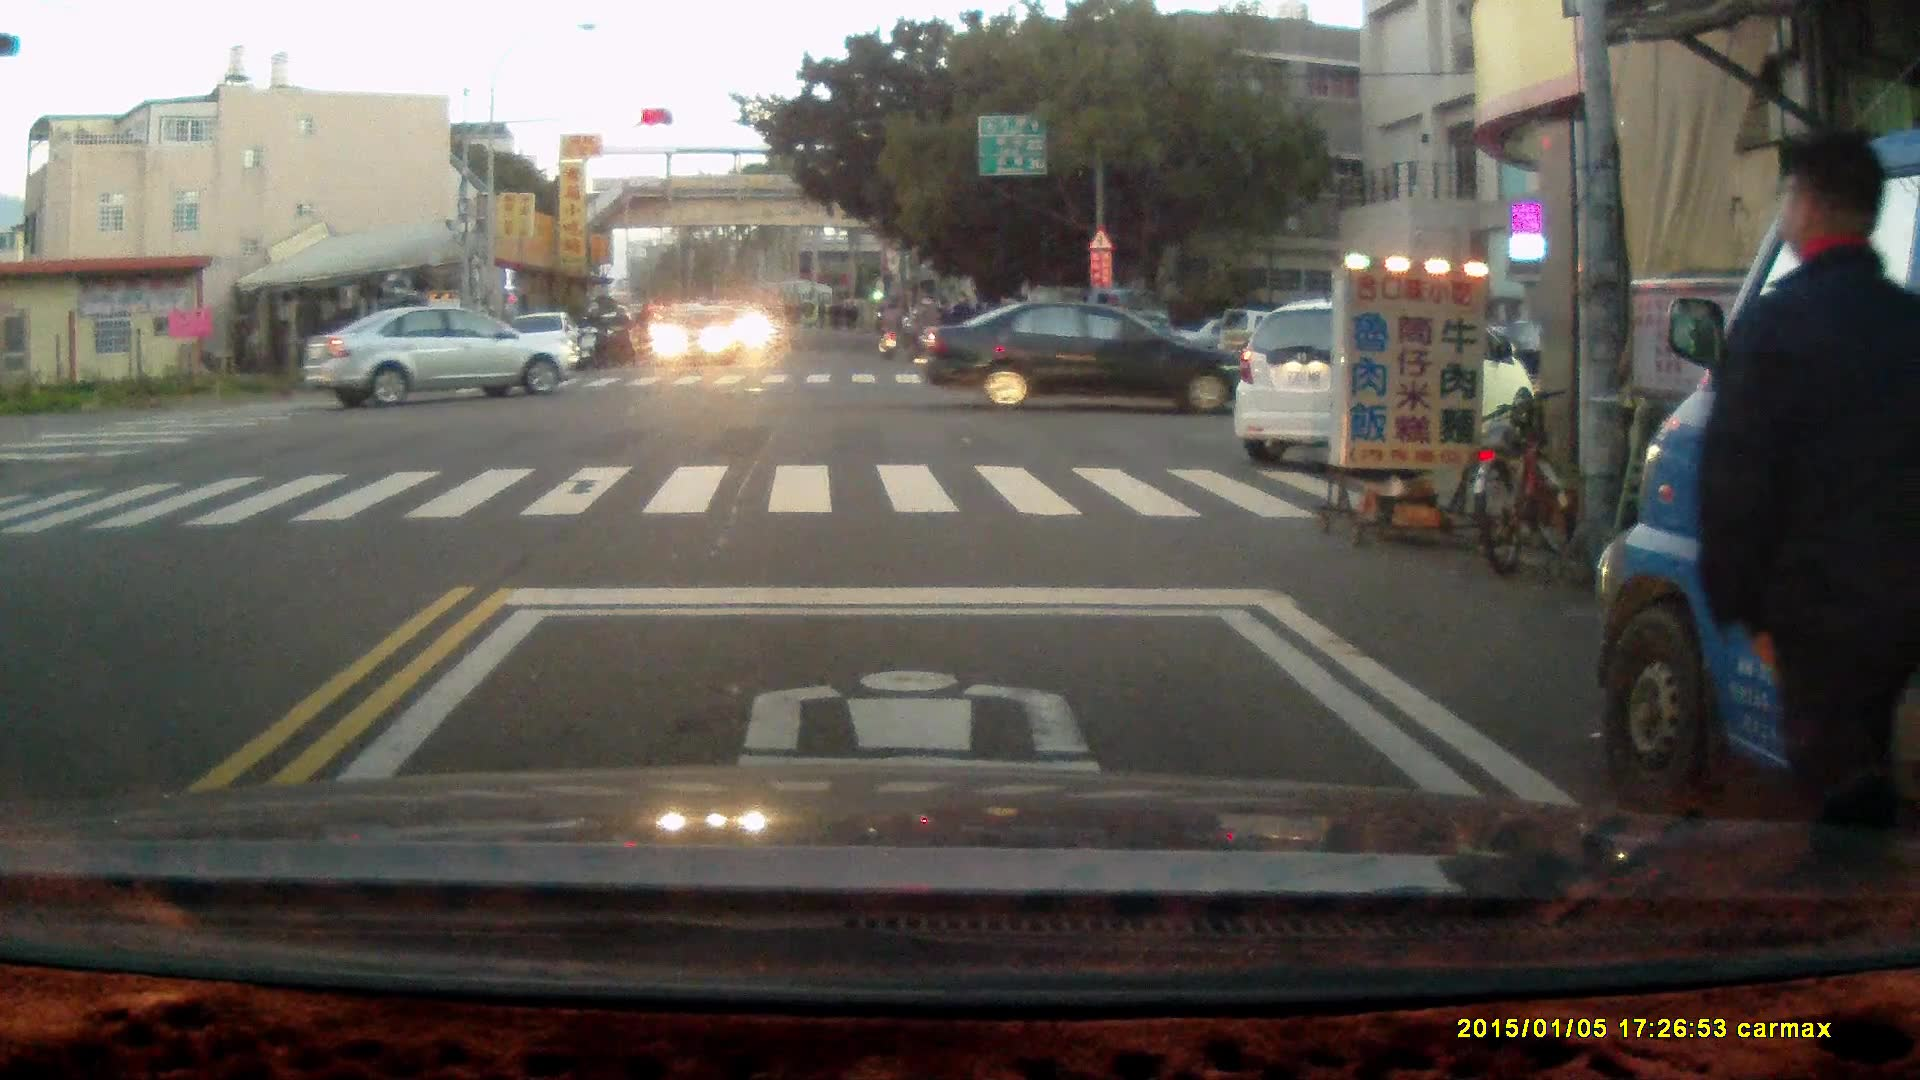pedestrian: (1691, 124, 1920, 827)
rider: (907, 296, 946, 363), (871, 294, 905, 360), (576, 301, 608, 367), (605, 302, 633, 365)
vehicle: (1598, 132, 1920, 844), (1233, 296, 1533, 459), (915, 298, 1238, 413), (305, 306, 579, 408), (1002, 284, 1179, 367)
